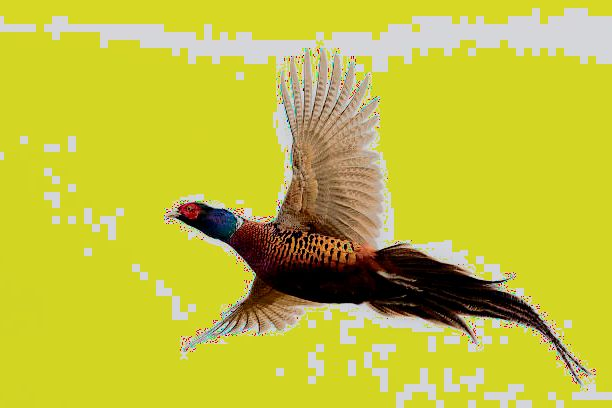Bird: (160, 43, 596, 391)
